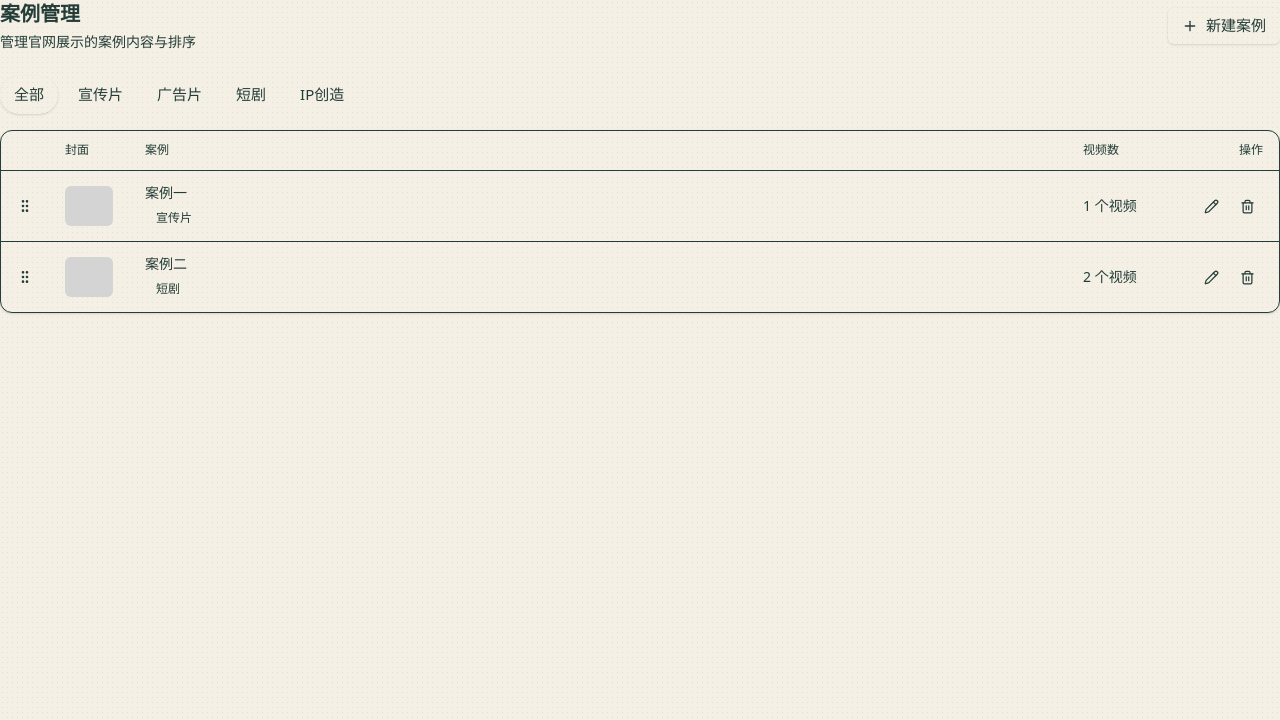
Test case: asks for confirmation before deleting and removes the row on confirm
Check: the text "案例一" is shown, box [145,183,187,202]
Click the button named "删除案例一": (1247, 206) [1231,190,1263,222]
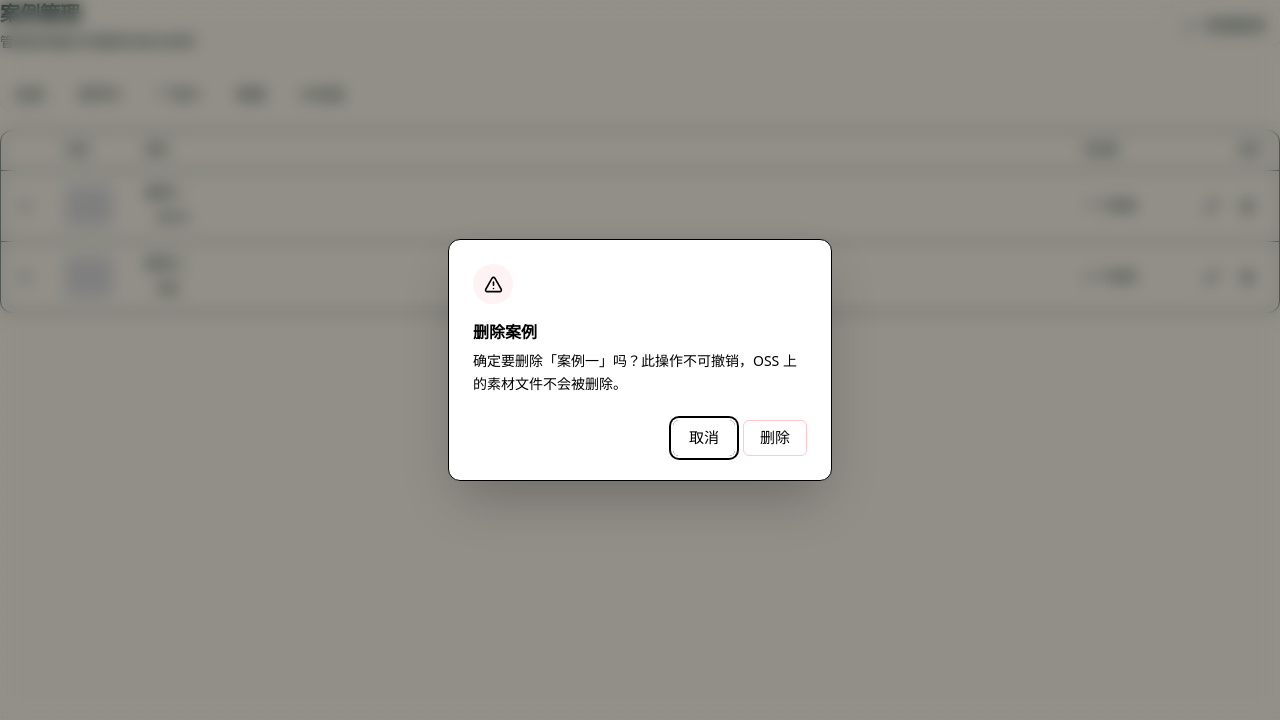
Check: the text "确定要删除「案例一」吗？此操作不可撤销，OSS 上的素材文件不会被删除。" is shown, box [473,350,807,396]
Click the button "删除": (775, 438) [743,420,807,456]
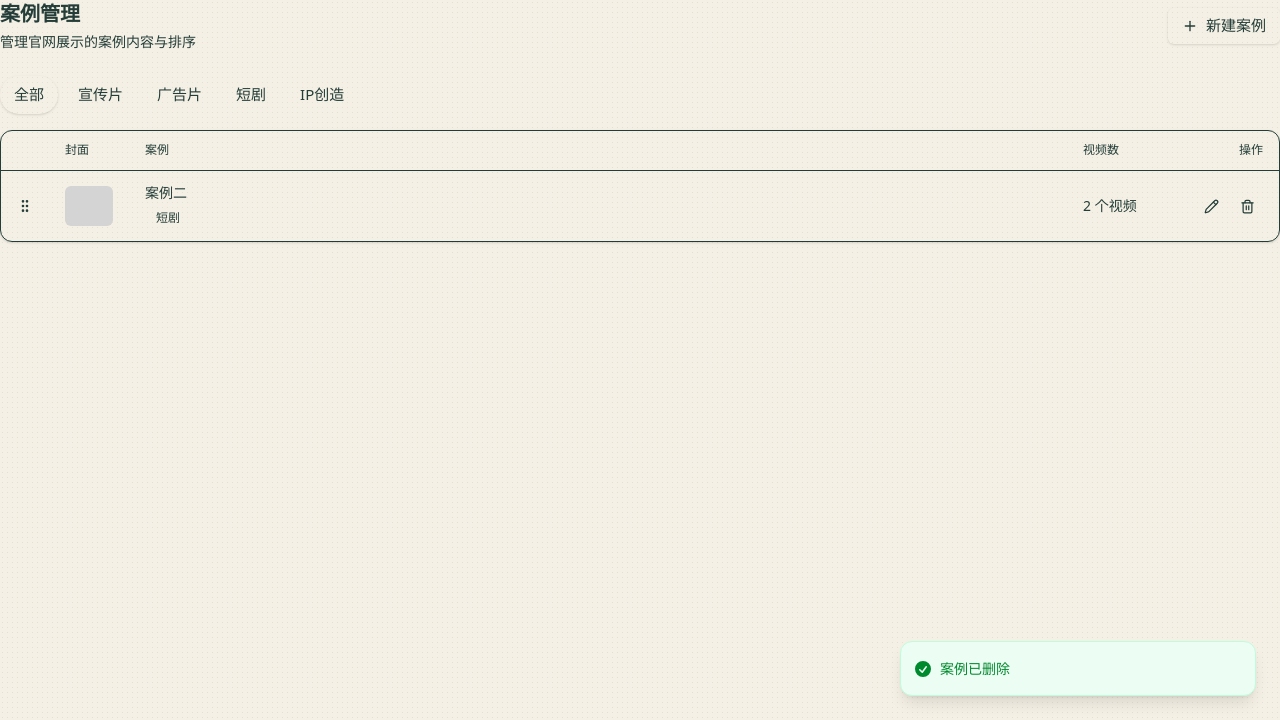
Check: the text "案例一" is gone
Check: the text "案例已删除" is shown, box [940,658,1010,679]
